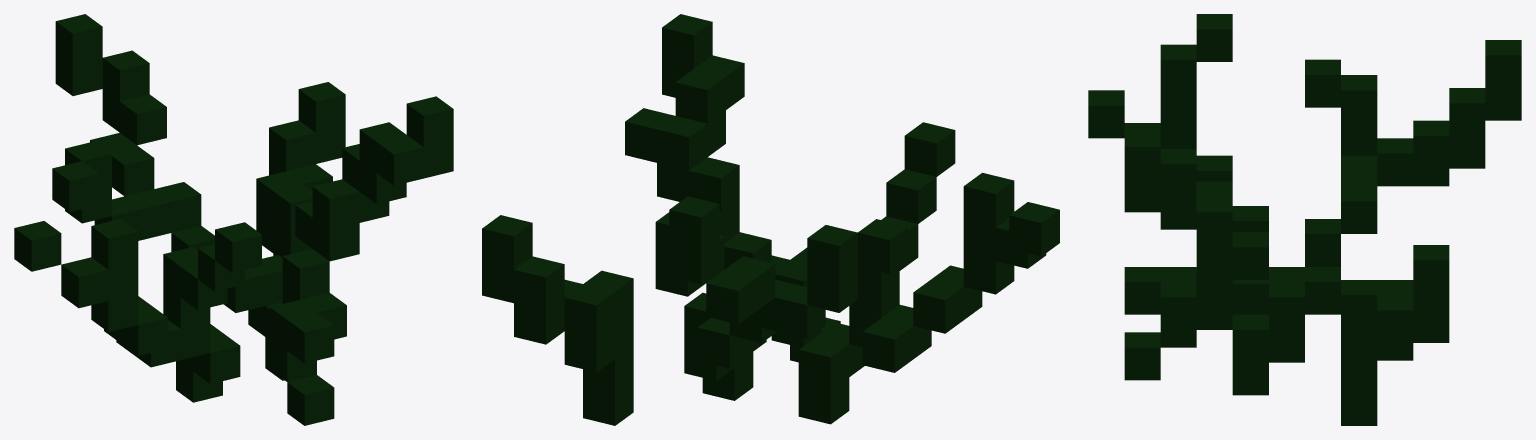
Rendered from grass1.fbx.
3 renders of one model, left to right at view 1: azimuth 30°, elevation 25°; view 2: azimuth 150°, elevation 25°; view 3: azimuth 270°, elevation 25°, orthographic. The views are drawn at different scales.
Visible parts, largest first — view 1: grass1; view 2: grass1; view 3: grass1.
Boxes of the visible parts, bbox=[...] form: grass1: bbox=[14, 14, 453, 425]; grass1: bbox=[482, 14, 1059, 425]; grass1: bbox=[1088, 14, 1521, 425].
Bounding box in the file's own units: 14 × 9 × 12.
Materials: 1 (1 with a texture image).
